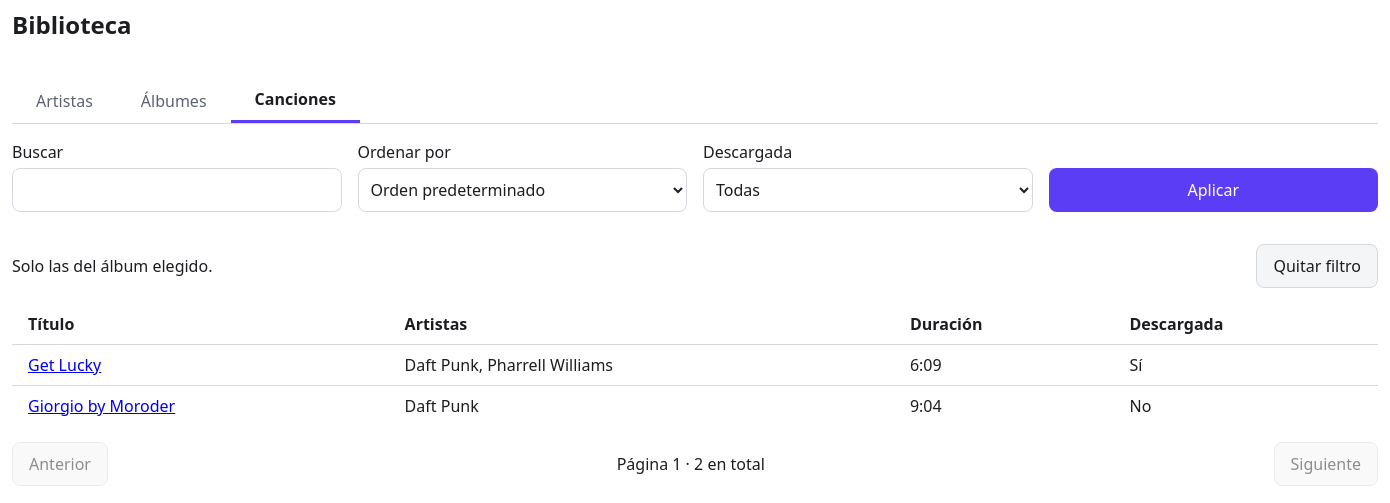
LibraryView › muestra el filtro por álbum y lo quita
The image size is (1390, 503).
Click the button "Quitar filtro".
click(1317, 266)  # box x1=1256 y1=244 x2=1378 y2=288
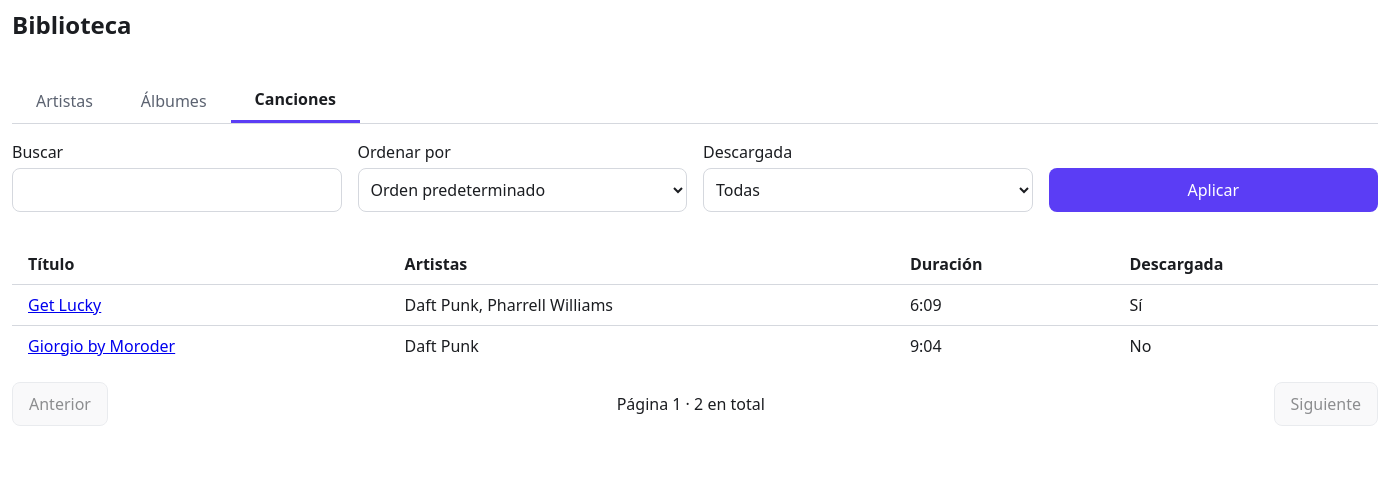
Now the text "Solo las del álbum elegido." is gone
